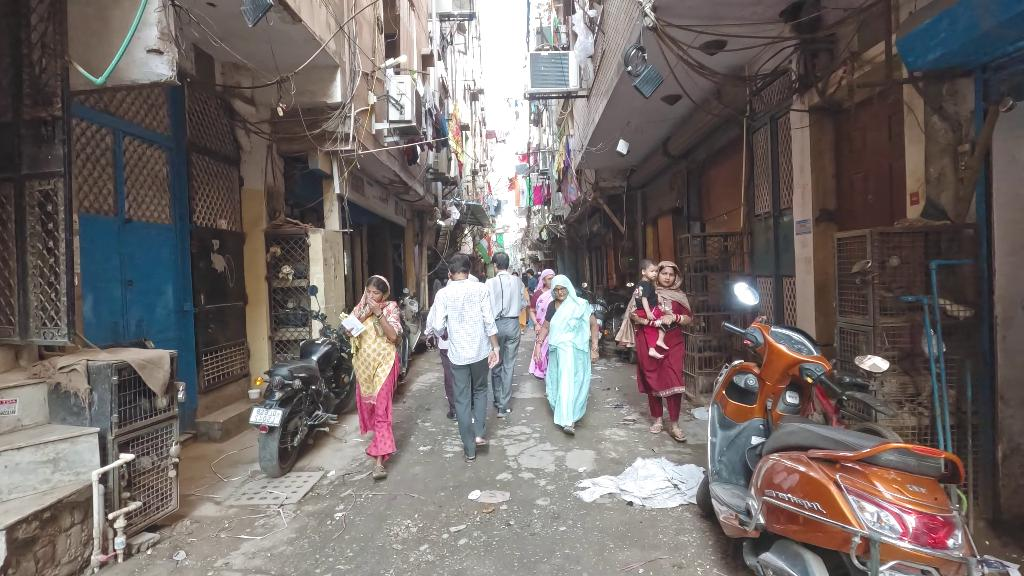garbage: (577, 451, 703, 521), (466, 485, 511, 509), (167, 544, 187, 565)
